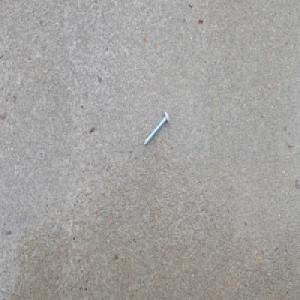Nail: (142, 109, 170, 146)
